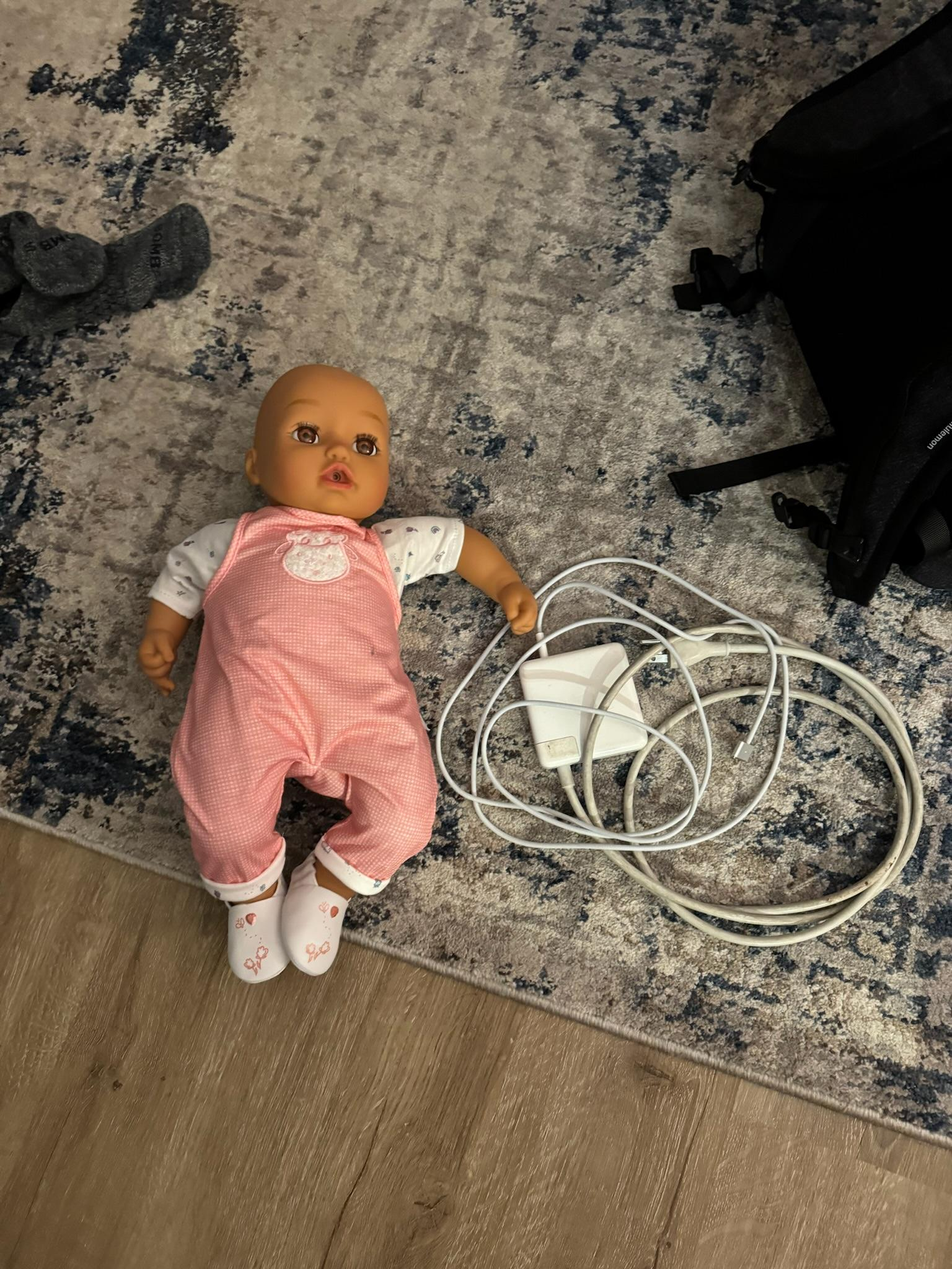baby: (124, 357, 492, 991)
